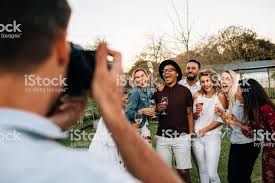person: (217, 62, 252, 123), (158, 61, 189, 108), (130, 66, 154, 125), (194, 72, 221, 116)
